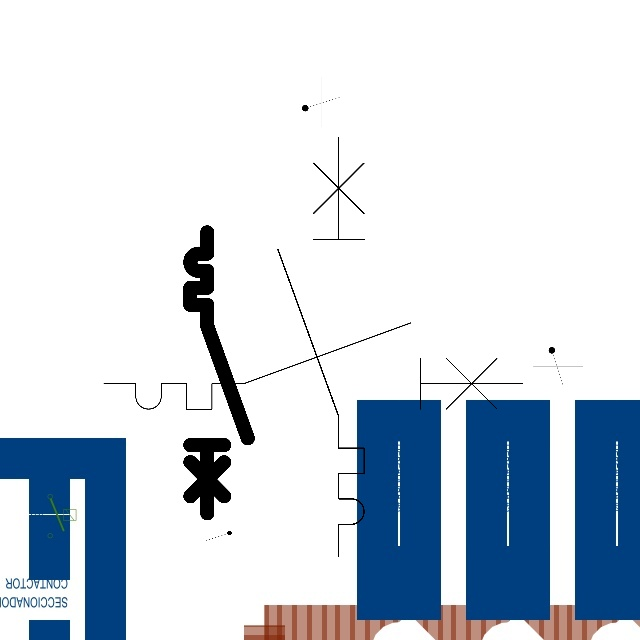interruptor_termomagnetico: (93, 312, 533, 420), (267, 126, 375, 566), (183, 225, 255, 520)
